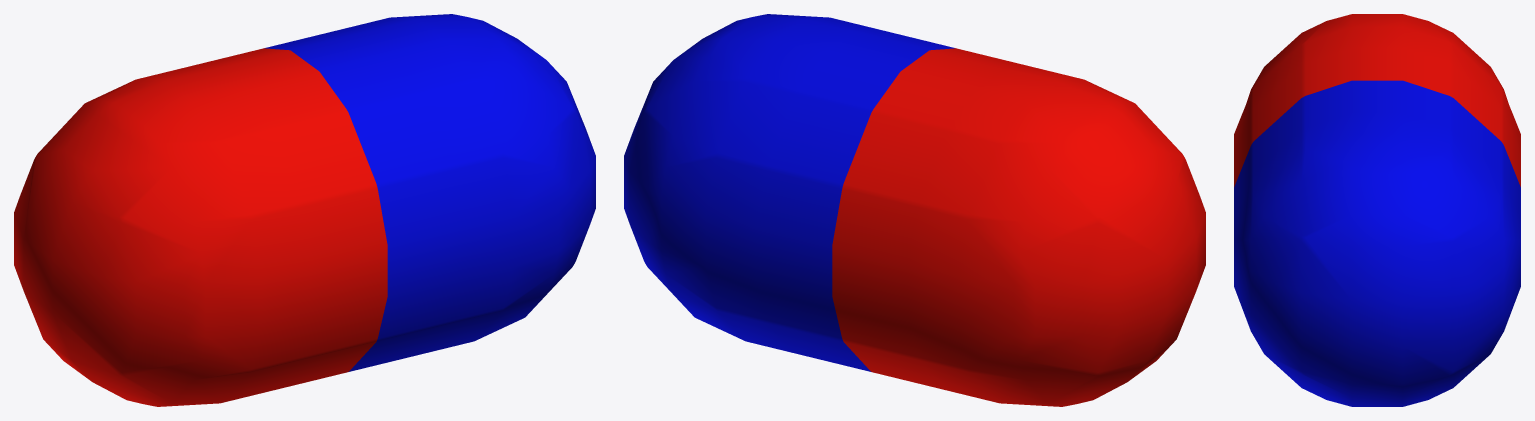
The model's file is pillola.fbx.
3 views of the same model, side by side, from view 1: azimuth 30°, elevation 25°; view 2: azimuth 150°, elevation 25°; view 3: azimuth 270°, elevation 25° (orthographic). The views are drawn at different scales.
Parts seen in each view (by area): view 1: Mball.001; view 2: Mball.001; view 3: Mball.001.
Boxes of the visible parts, x1,y1,x2,y2 form: Mball.001: [14, 14, 595, 406]; Mball.001: [624, 14, 1205, 406]; Mball.001: [1234, 14, 1520, 406].
Size of the model in its own units: 423 by 227 by 227.
